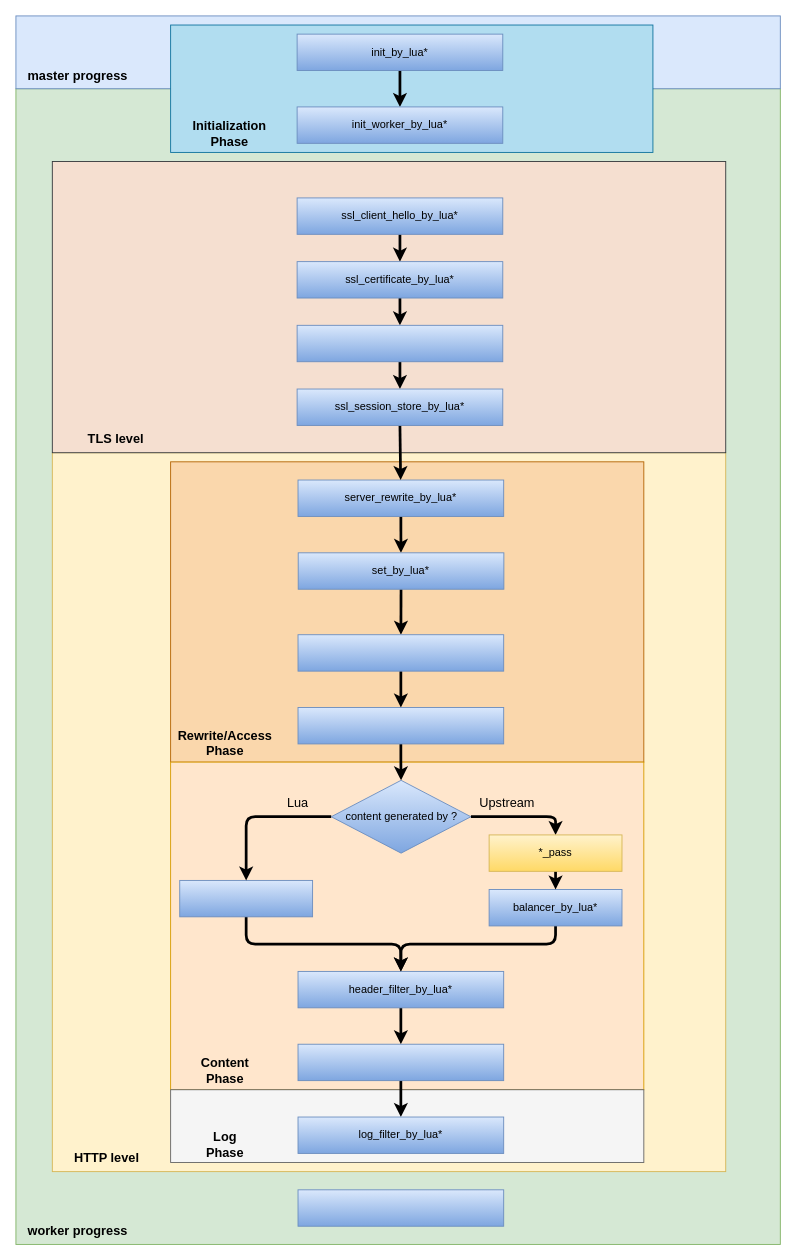
This 796x1260 diagram has some shape labels left out. Here are the shapes that lost their labels. From the top down, the centre of each, then its label:
At [399,343]: "ssl_session_fetch_by_lua*".
At [400,652]: "rewrite_by_lua*".
At [400,725]: "access_by_lua*".
At [246,898]: "content_by_lua*".
At [400,1062]: "body_filter_by_lua*".
At [400,1207]: "exit_worker_by_lua*".
